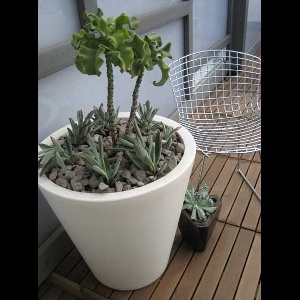flowerpot: (38, 111, 196, 293), (176, 191, 223, 253)
